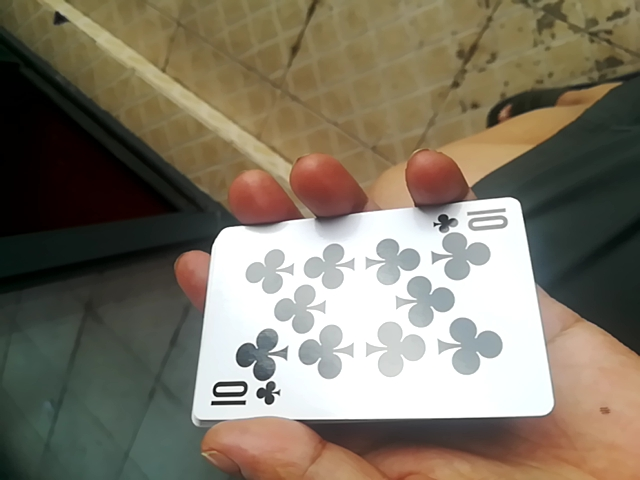mh 10: (175, 194, 558, 424)
